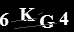4: (59, 11, 70, 26)
6: (1, 12, 9, 27)
G: (39, 14, 55, 29)
K: (18, 7, 36, 22)
